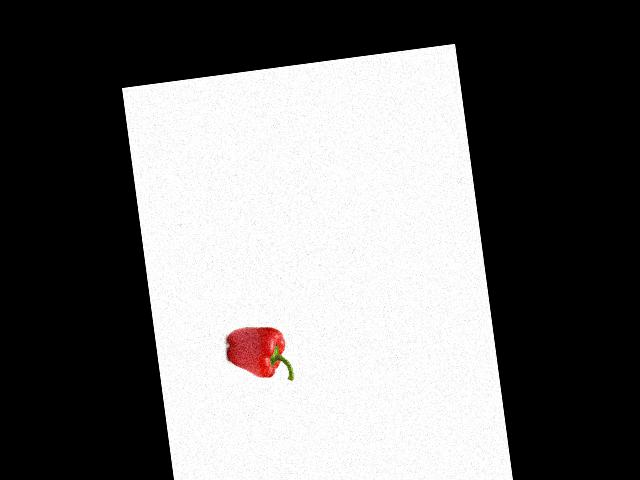bell_pepper: (219, 318, 298, 391)
